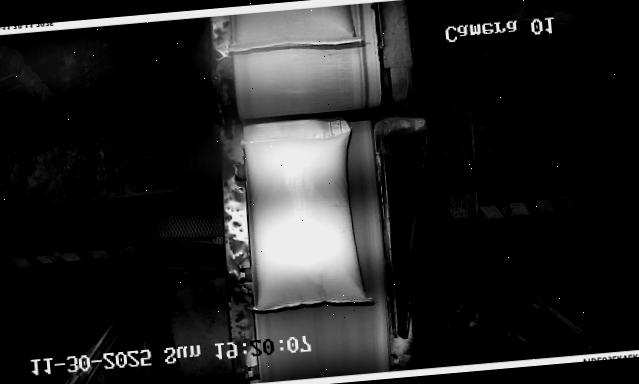bag: (238, 117, 367, 311), (226, 4, 358, 53)
